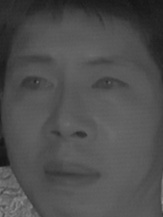eye: (88, 72, 128, 97), (18, 74, 55, 94)
mouth: (44, 154, 102, 193)
